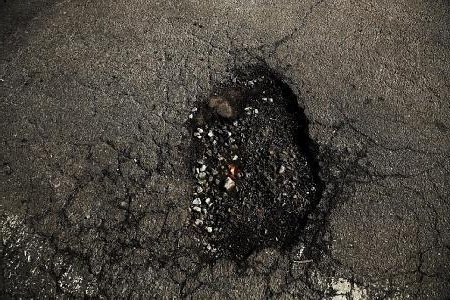pothole: (174, 58, 339, 263)
